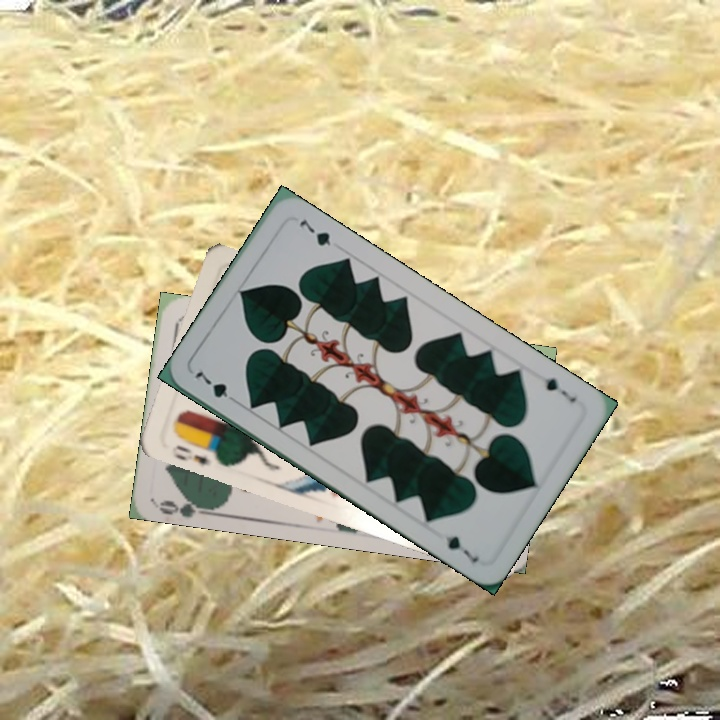EO: (170, 435, 221, 468)
G7: (190, 367, 241, 406), (541, 373, 579, 405)
GO: (155, 489, 215, 518)
